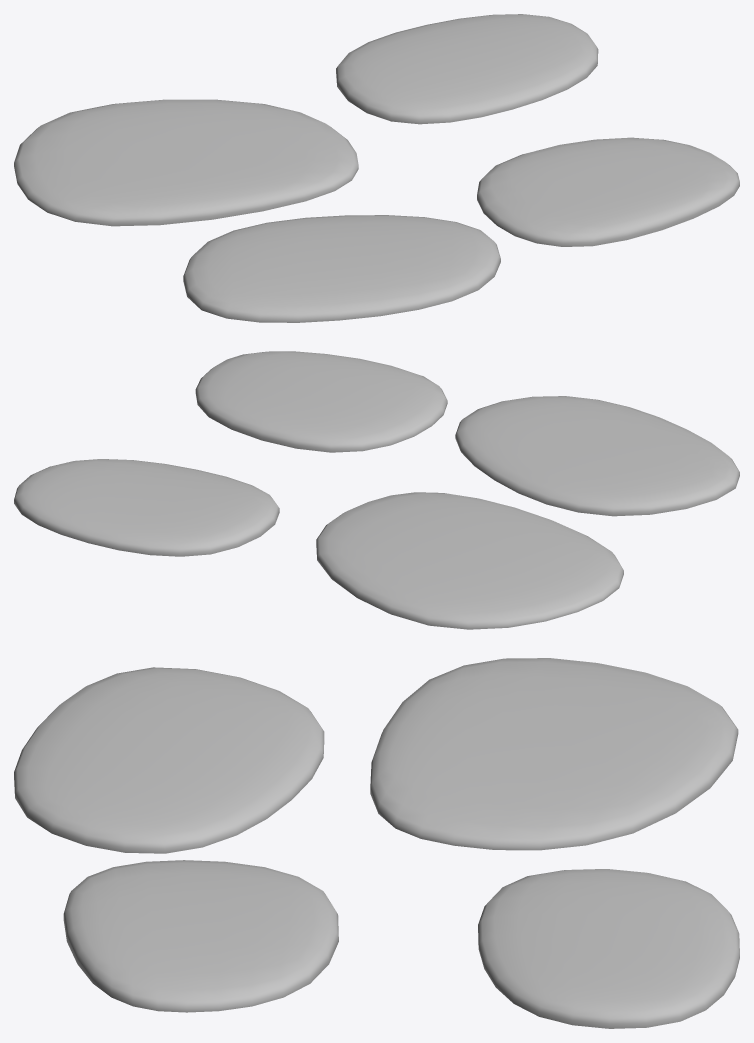
File: Town_10_Path_3.glb
3 renders of one model, top to bottom at view 1: azimuth 30°, elevation 25°; view 2: azimuth 150°, elevation 25°; view 3: azimuth 270°, elevation 25°, orthographic. The views are drawn at different scales.
Visible parts, largest first — view 1: Town_10_Path_3; view 2: Town_10_Path_3; view 3: Town_10_Path_3.
Part boxes in pixels (left/top/right/bottom): Town_10_Path_3: left=14, top=14, right=739, bottom=322; Town_10_Path_3: left=14, top=351, right=739, bottom=629; Town_10_Path_3: left=14, top=658, right=739, bottom=1028.
Bounding box in the file's own units: 1.55 × 0.0378 × 1.3.
1 material, 1 textured.
